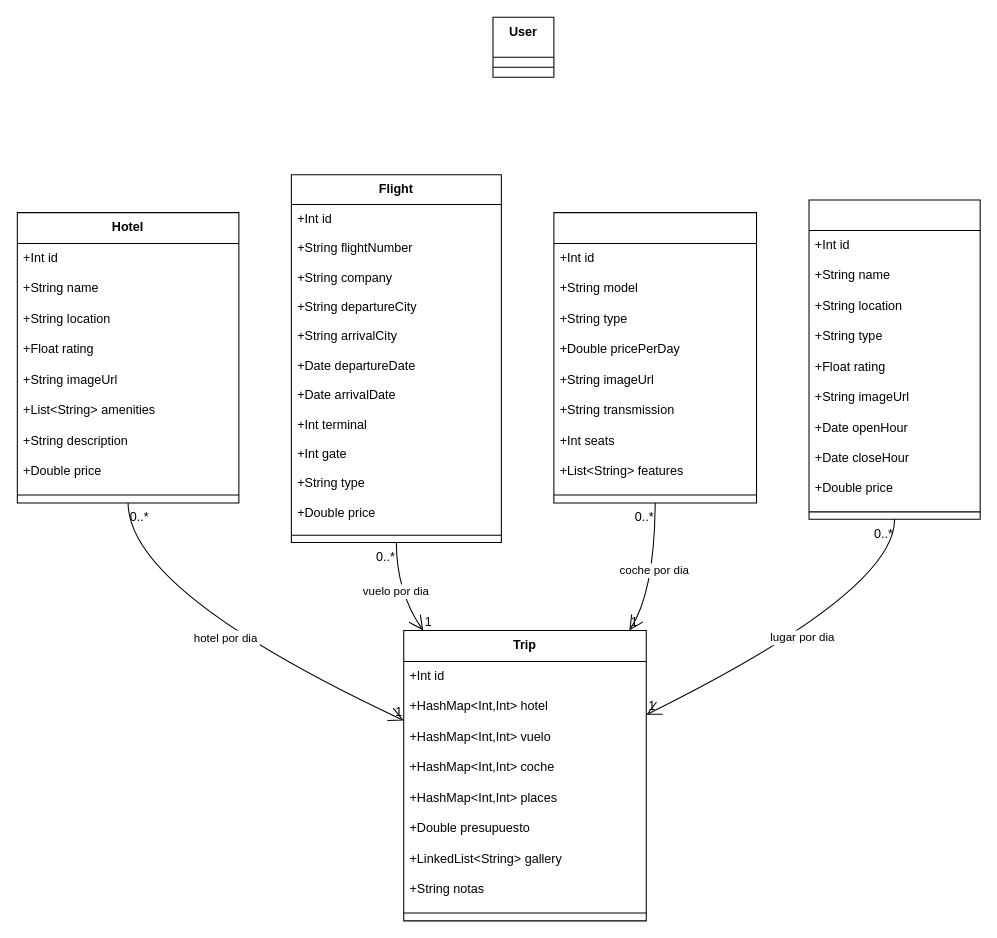
Image size: 997x938. Some labels were removed from this diagram. Here are the shapes that lost their labels. From the top down, the box of each, then its label:
(553, 212, 757, 503): Car
(808, 199, 980, 519): Place
